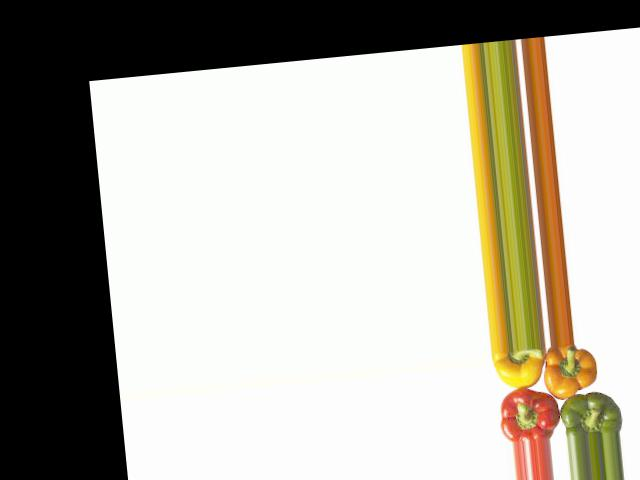bell_pepper: (489, 346, 552, 393)
